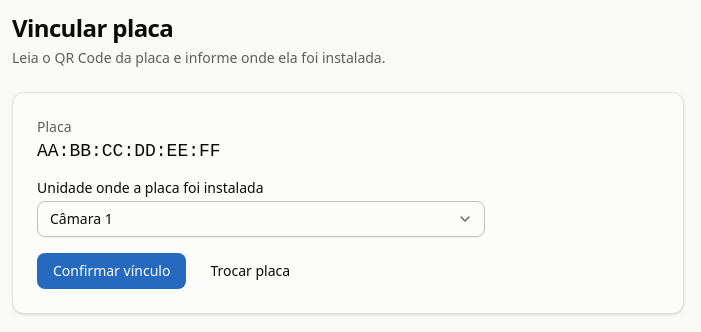
Test: BindDevicePage › não avisa ao reescanear na mesma unidade e informa que já estava vinculada
Click the button "Confirmar vínculo".
click(112, 271)  # box [37,253,186,289]
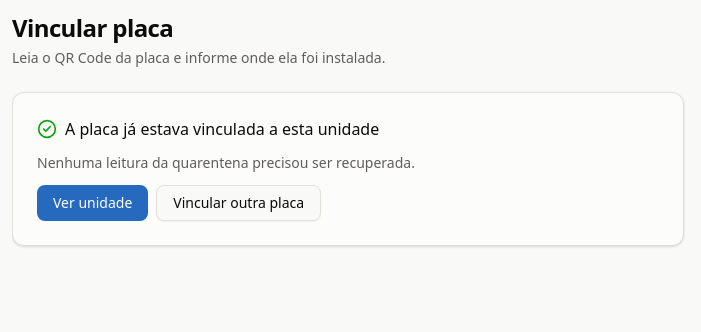
Now the text "A placa já estava vinculada a esta unidade" is shown, box [37,118,379,140]
